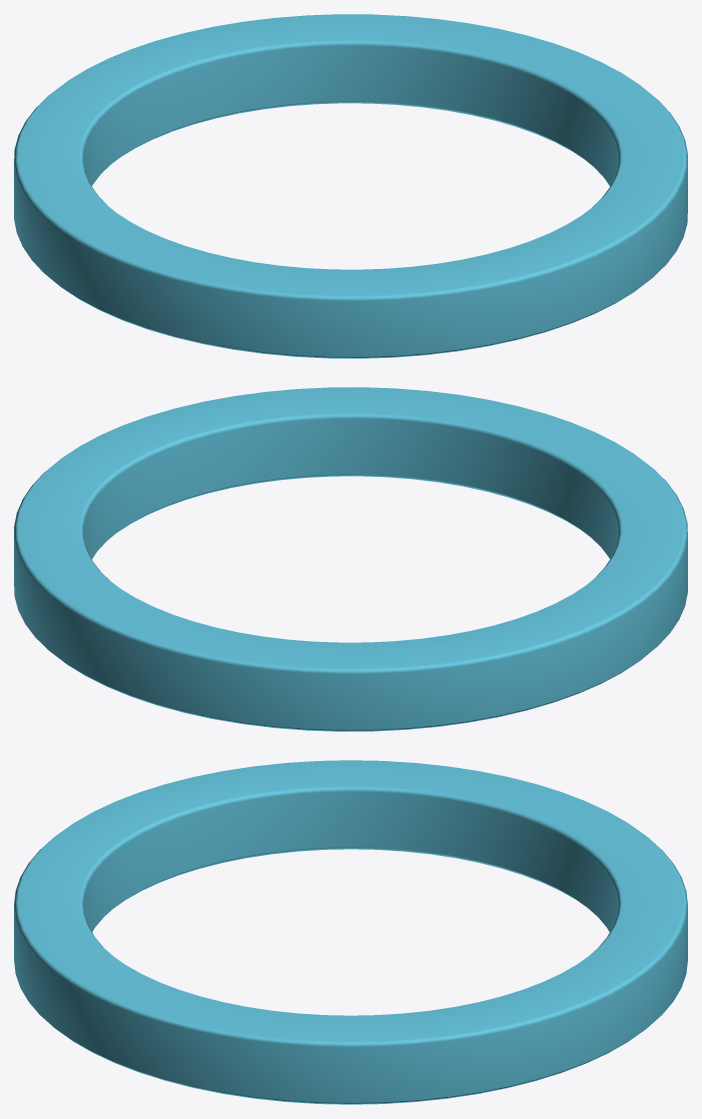
3 renders of one model, top to bottom at view 1: azimuth 30°, elevation 25°; view 2: azimuth 150°, elevation 25°; view 3: azimuth 270°, elevation 25°, orthographic.
Visible parts, largest first — view 1: seal_body; view 2: seal_body; view 3: seal_body.
Boxes of the visible parts, bbox=[...] form: seal_body: bbox=[14, 14, 687, 358]; seal_body: bbox=[14, 387, 687, 731]; seal_body: bbox=[14, 760, 687, 1104].
Size of the model in its own units: 0.0921 by 0.00952 by 0.0921.
